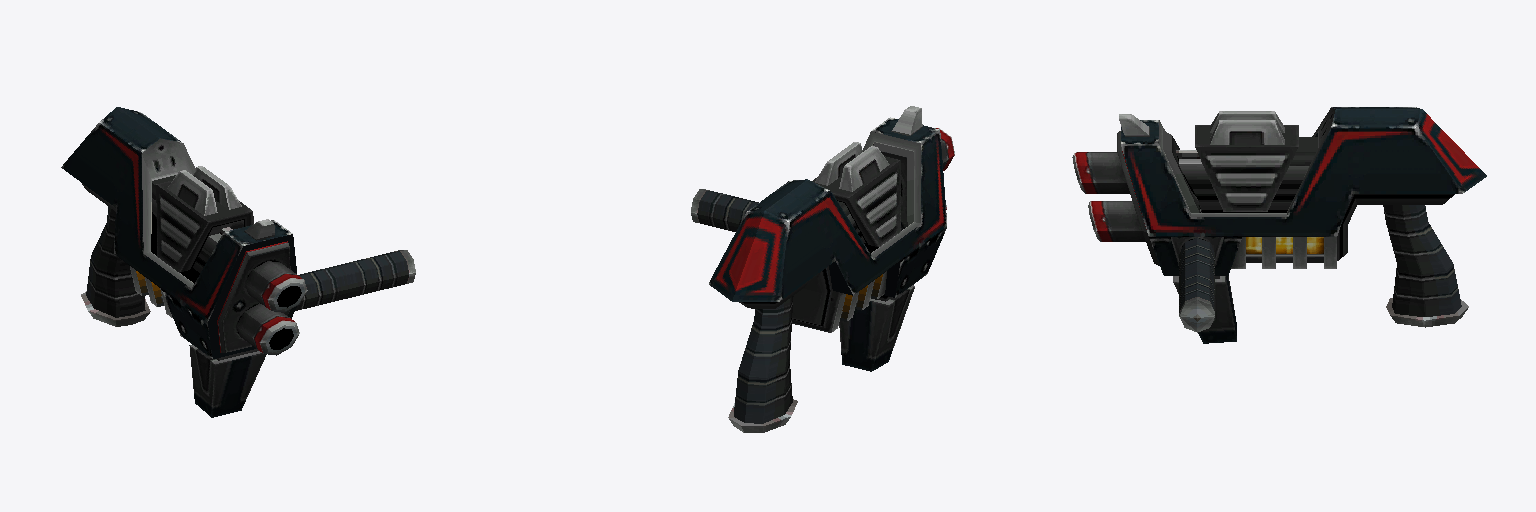
The picture shows the model from 3 angles: view 1: azimuth 30°, elevation 25°; view 2: azimuth 150°, elevation 25°; view 3: azimuth 270°, elevation 25°; orthographic projection.
Visible parts, largest first — view 1: PistolFluxLX; view 2: PistolFluxLX; view 3: PistolFluxLX.
Part boxes in pixels (x1,y1,x2,y2): PistolFluxLX: (61, 107, 415, 417); PistolFluxLX: (691, 106, 954, 432); PistolFluxLX: (1072, 107, 1486, 343).
Size of the model in its own units: 19.33 by 18.44 by 30.52.
Materials: 1 (1 with a texture image).